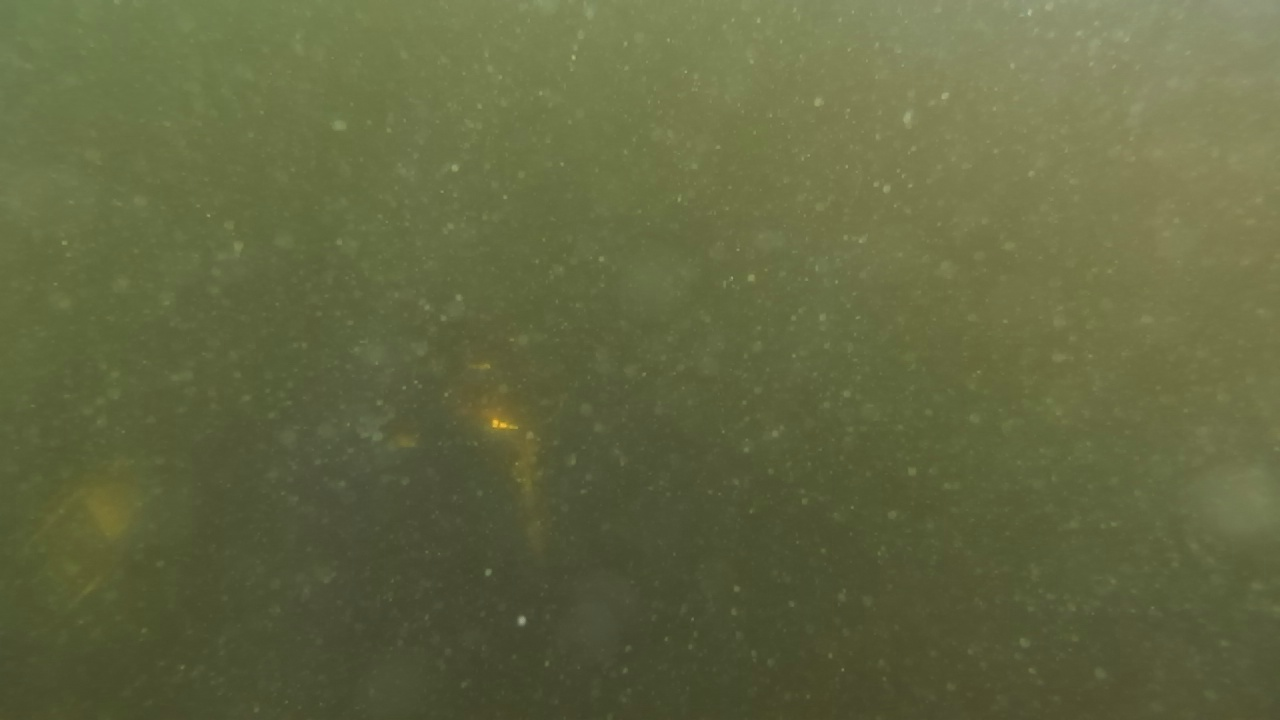Head: (446, 316, 516, 448)
